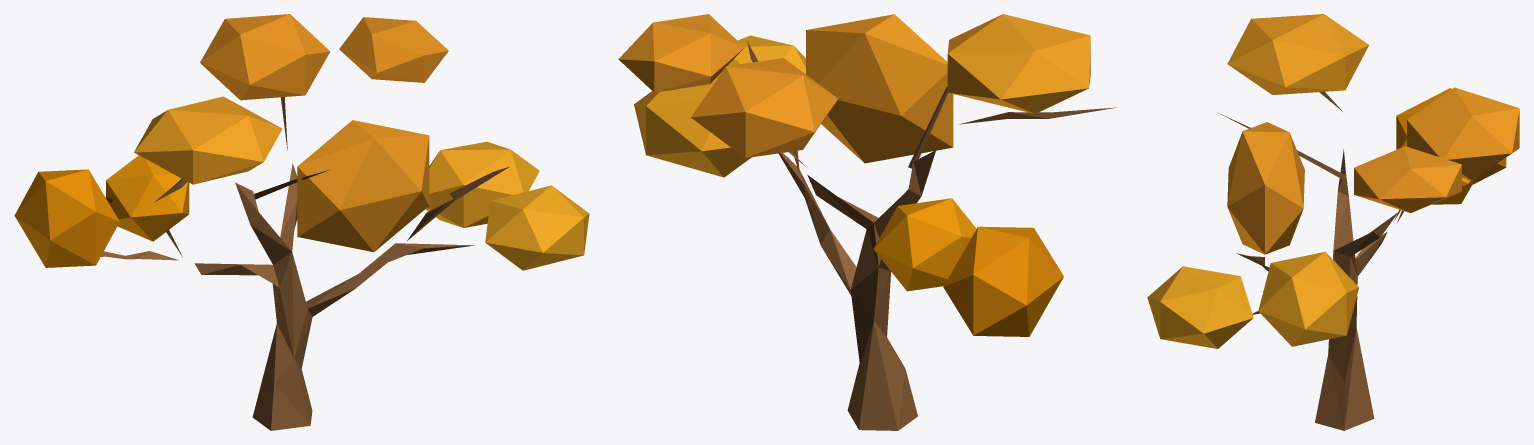
The model's file is guayacan_3_autumn_far.glb.
The picture shows the model from 3 angles, left to right: view 1: azimuth 30°, elevation 25°; view 2: azimuth 150°, elevation 25°; view 3: azimuth 270°, elevation 25°; orthographic projection. The views are drawn at different scales.
Parts seen in each view (by area): view 1: guayacan_3_autumn_far; view 2: guayacan_3_autumn_far; view 3: guayacan_3_autumn_far.
Boxes of the visible parts, bbox=[...] form: guayacan_3_autumn_far: bbox=[14, 14, 589, 430]; guayacan_3_autumn_far: bbox=[618, 14, 1115, 430]; guayacan_3_autumn_far: bbox=[1147, 14, 1519, 430].
Bounding box in the file's own units: 8.03 × 6.11 × 6.02.
